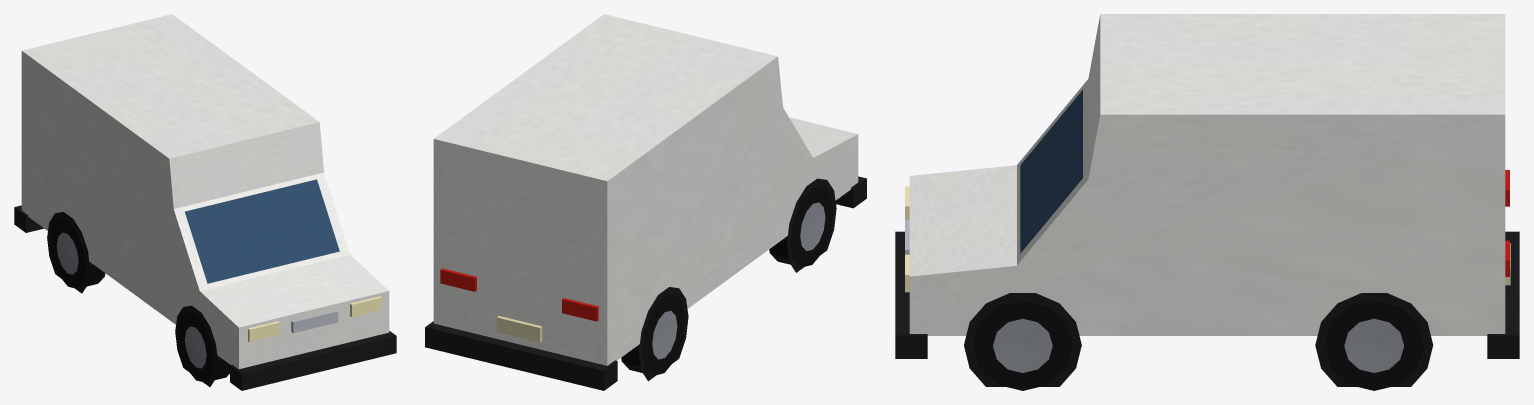
File: van-white.glb
3 views of the same model, side by side, from view 1: azimuth 30°, elevation 25°; view 2: azimuth 150°, elevation 25°; view 3: azimuth 270°, elevation 25° (orthographic). The views are drawn at different scales.
Visible parts, largest first — view 1: van-white, wheel_rr, wheel_fr; view 2: van-white, wheel_fr, wheel_rr; view 3: van-white, wheel_rl, wheel_fl.
Part boxes in pixels (x1,y1,x2,y2): van-white: (14, 14, 396, 390); wheel_rr: (49, 218, 105, 288); wheel_fr: (178, 312, 230, 382); van-white: (425, 14, 866, 390); wheel_fr: (769, 185, 833, 267); wheel_rr: (621, 294, 685, 375); van-white: (895, 14, 1519, 386); wheel_rl: (1324, 300, 1424, 390); wheel_fl: (973, 300, 1072, 390).
Size of the model in its own units: 2.06 by 2.55 by 5.24.
Materials: 1 (1 with a texture image).
